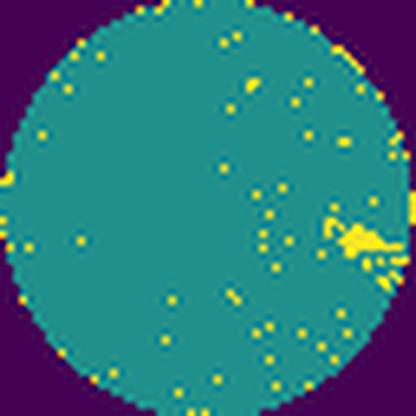Loc: (321, 216, 404, 258)
